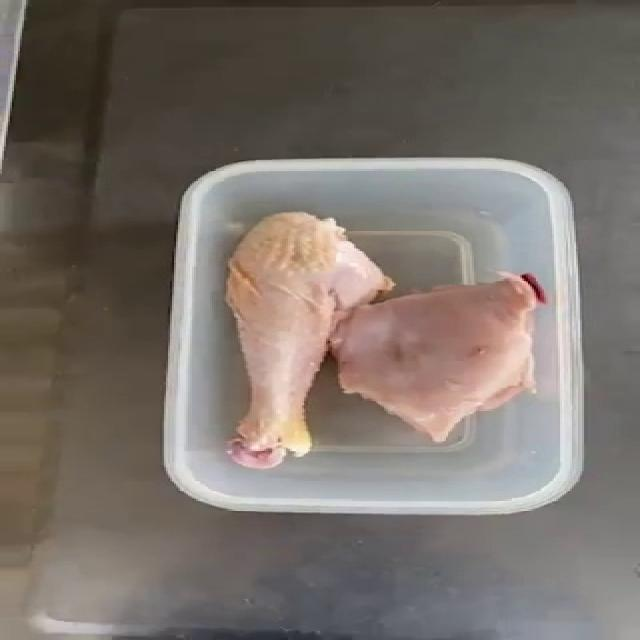chicken: (222, 209, 395, 469), (328, 269, 547, 443)
